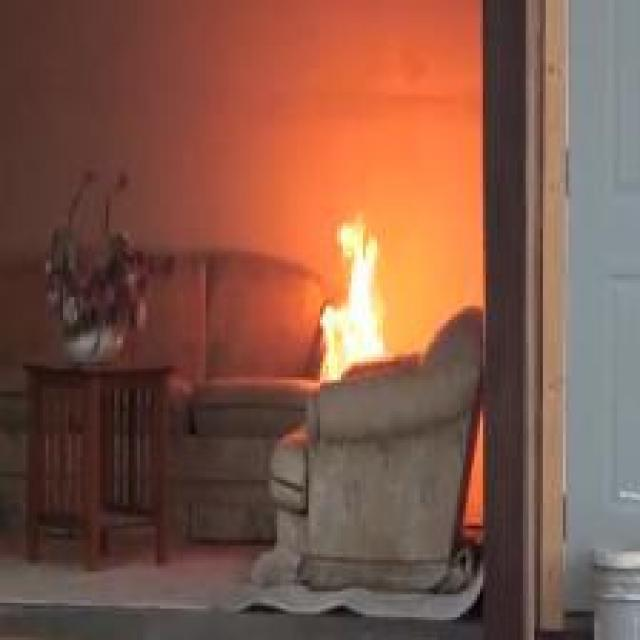Fire: (320, 217, 386, 380)
